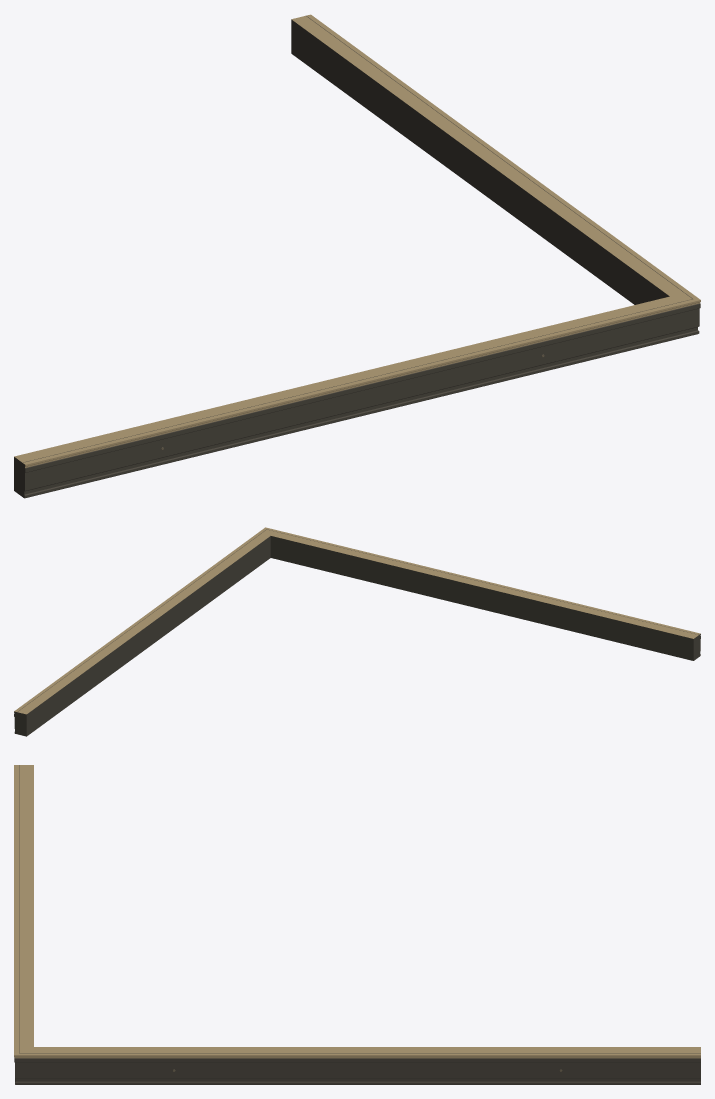
File: mall-floor-edge-2m-mitre.glb
3 renders of one model, top to bottom at view 1: azimuth 30°, elevation 25°; view 2: azimuth 150°, elevation 25°; view 3: azimuth 270°, elevation 25°, orthographic. The views are drawn at different scales.
Visible parts, largest first — view 1: Front mitred section LOD0, Right mitred section LOD0; view 2: Front mitred section LOD0, Right mitred section LOD0; view 3: Right mitred section LOD0, Front mitred section LOD0.
Boxes of the visible parts, box(x1,y1,x2,y2) form: Front mitred section LOD0: box(14, 296, 700, 498); Right mitred section LOD0: box(291, 14, 700, 304); Front mitred section LOD0: box(265, 527, 700, 660); Right mitred section LOD0: box(14, 527, 270, 736); Right mitred section LOD0: box(14, 1047, 700, 1084); Front mitred section LOD0: box(14, 765, 33, 1081).
Bounding box in the file's own units: 2.06 × 0.1 × 2.06.
